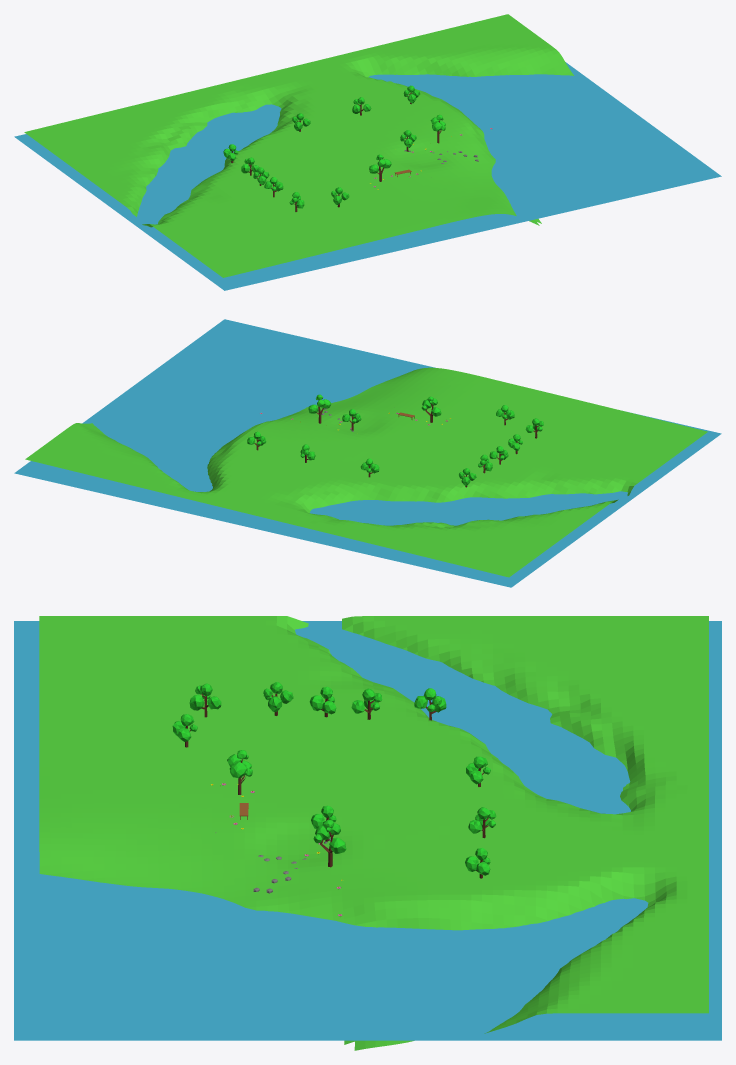
Rendered from JardimRPS.fbx.
The picture shows the model from 3 angles, top to bottom: view 1: azimuth 30°, elevation 25°; view 2: azimuth 150°, elevation 25°; view 3: azimuth 270°, elevation 25°; orthographic projection. The views are drawn at different scales.
Visible parts, largest first — view 1: Plane, Plane.001; view 2: Plane, Plane.001; view 3: Plane, Plane.001.
Part boxes in pixels (x1,y1,x2,y2): Plane: [24, 14, 573, 277]; Plane.001: [14, 62, 721, 290]; Plane: [25, 367, 707, 577]; Plane.001: [14, 319, 721, 587]; Plane: [39, 616, 708, 1050]; Plane.001: [14, 621, 721, 1040].
Bounding box in the file's own units: 3680 × 383 × 2699.
